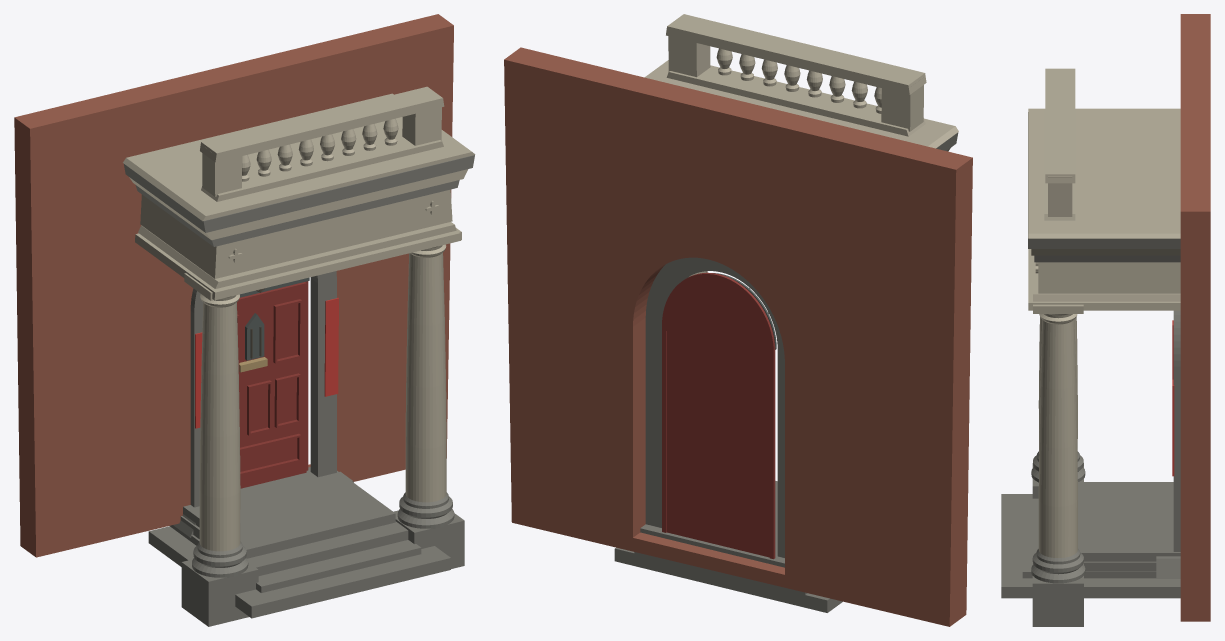
Rendered from full-source.glb.
3 views of the same model, side by side, from view 1: azimuth 30°, elevation 25°; view 2: azimuth 150°, elevation 25°; view 3: azimuth 270°, elevation 25° (orthographic). The views are drawn at different scales.
Parts seen in each view (by area): view 1: 新华路329弄32号乙花园住宅双柱门廊; view 2: 新华路329弄32号乙花园住宅双柱门廊; view 3: 新华路329弄32号乙花园住宅双柱门廊.
Part boxes in pixels (left/top/right/bottom): 新华路329弄32号乙花园住宅双柱门廊: left=14, top=14, right=475, bottom=626; 新华路329弄32号乙花园住宅双柱门廊: left=504, top=14, right=972, bottom=626; 新华路329弄32号乙花园住宅双柱门廊: left=1001, top=14, right=1210, bottom=626.
Bounding box in the file's own units: 4.99 × 5.25 × 2.24.
